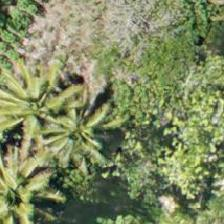coconut_tree: (0, 61, 82, 151), (0, 149, 55, 223)
